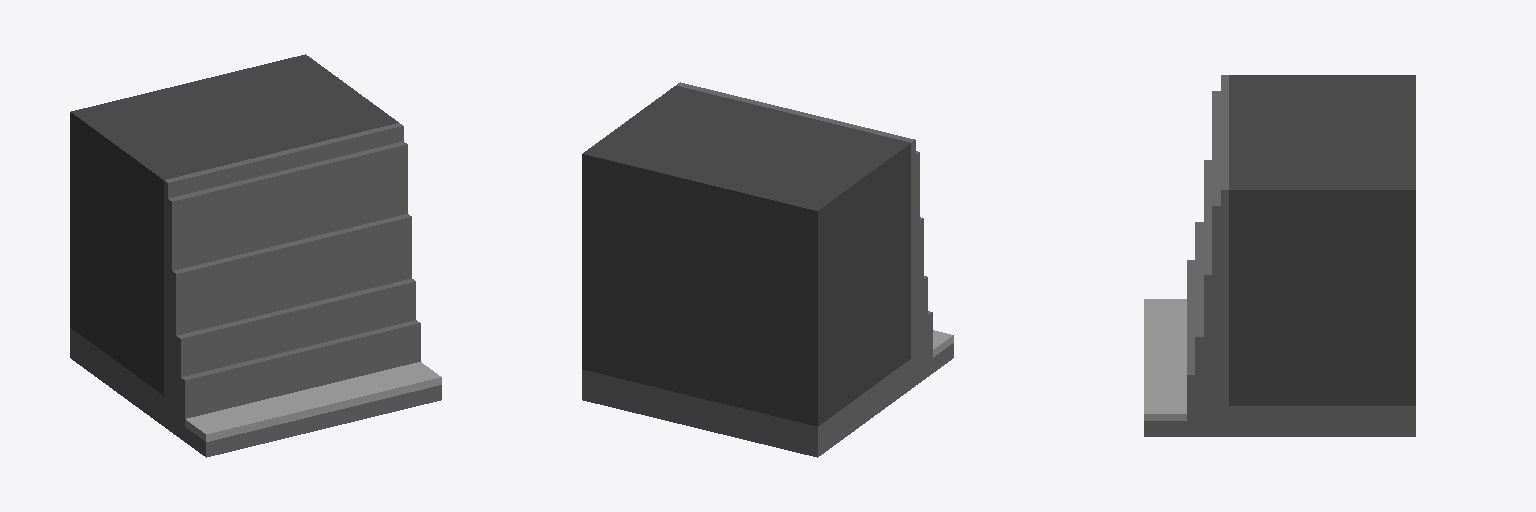
3 views of the same model, side by side, from view 1: azimuth 30°, elevation 25°; view 2: azimuth 150°, elevation 25°; view 3: azimuth 270°, elevation 25° (orthographic).
Parts seen in each view (by area): view 1: BasicWall; view 2: BasicWall; view 3: BasicWall.
Part boxes in pixels (bbox=[...]): BasicWall: bbox=[70, 54, 441, 457]; BasicWall: bbox=[582, 82, 953, 457]; BasicWall: bbox=[1144, 75, 1415, 436].
Bounding box in the file's own units: 32 × 32 × 32.
Materials: 1 (1 with a texture image).